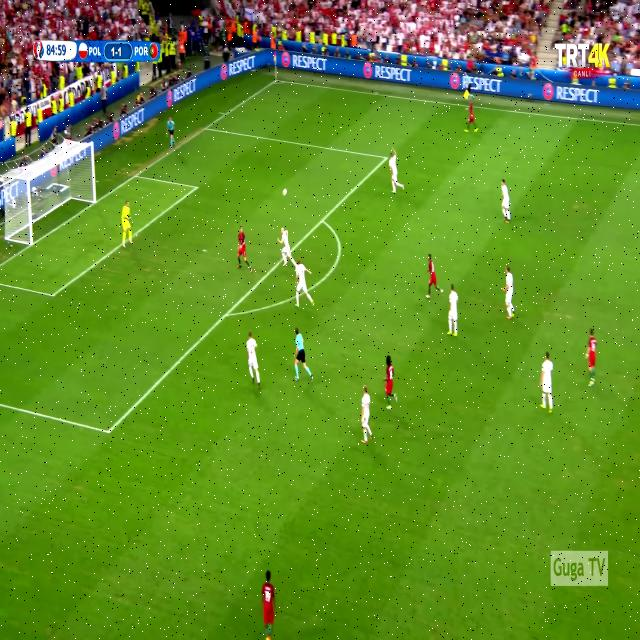Ball: (280, 187, 289, 198)
GoalKeeper: (116, 196, 140, 252)
TEAM 1: (258, 566, 284, 632), (578, 316, 602, 386), (382, 354, 404, 420), (421, 244, 445, 298), (236, 220, 254, 272), (463, 96, 482, 140)
TEAM 2: (289, 252, 322, 314), (244, 331, 269, 401), (539, 351, 560, 421), (443, 278, 462, 349), (498, 175, 519, 237), (501, 262, 520, 326), (358, 380, 376, 447), (386, 143, 406, 200), (280, 225, 302, 267)
